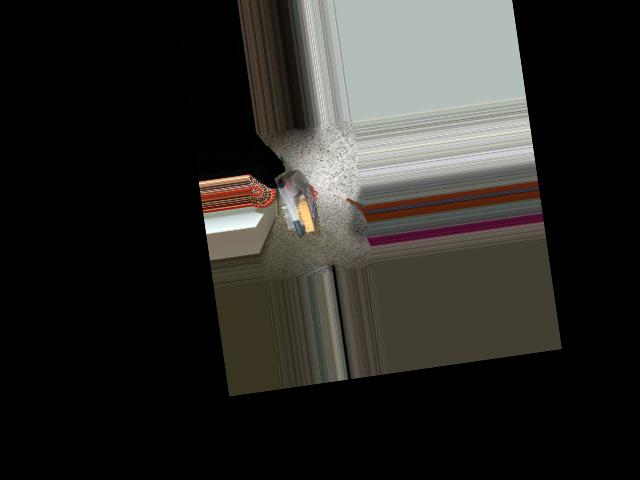cheese: (271, 168, 321, 240)
